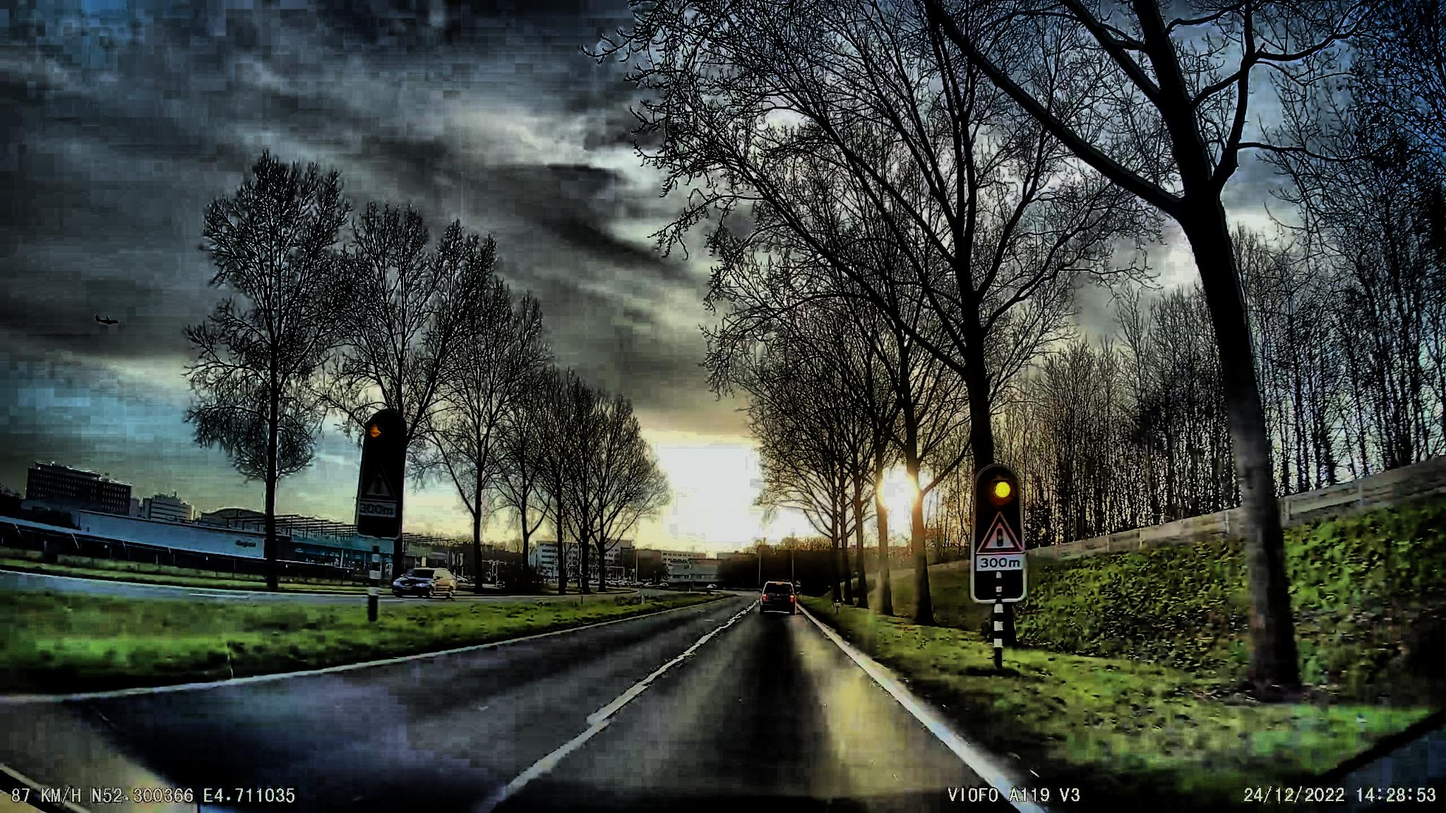Roads: (0, 602, 1079, 813)
